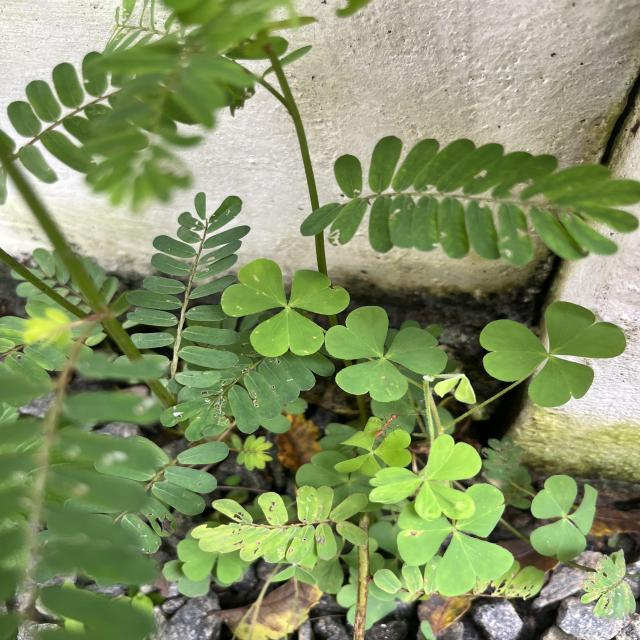Oxalis corniculata: (477, 300, 628, 409), (395, 481, 515, 598), (219, 257, 351, 359), (324, 304, 449, 404), (368, 432, 484, 522), (528, 474, 600, 564)
